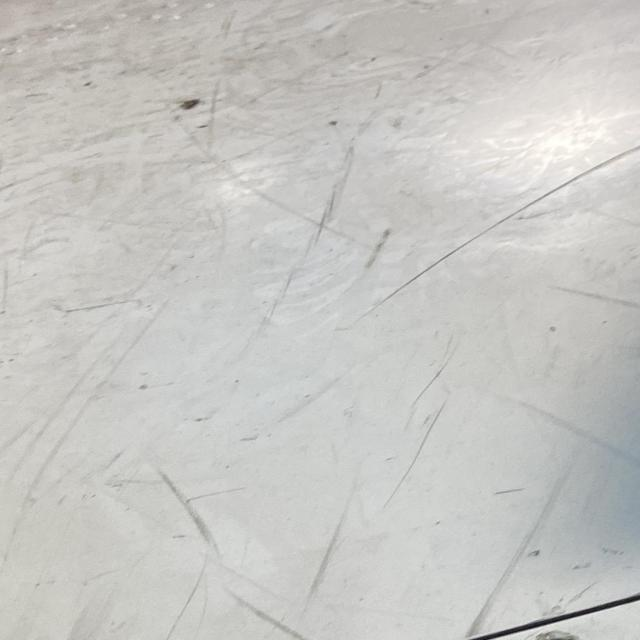Missing-head: (531, 629, 581, 640)
